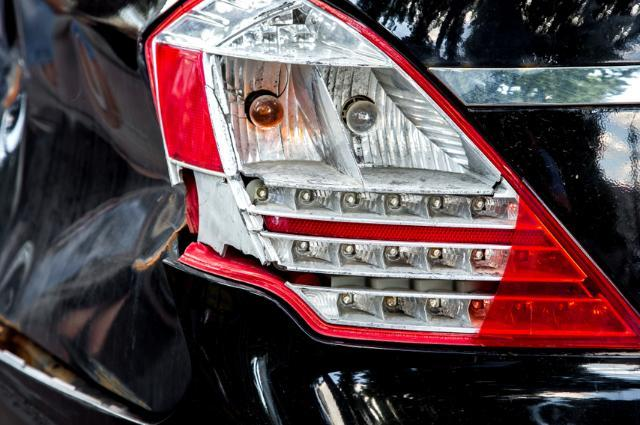Bumper: (13, 357, 640, 425)
Fender: (3, 27, 148, 339)
Light: (161, 0, 587, 338)
